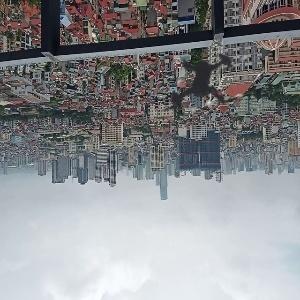drone: (133, 14, 277, 158)
